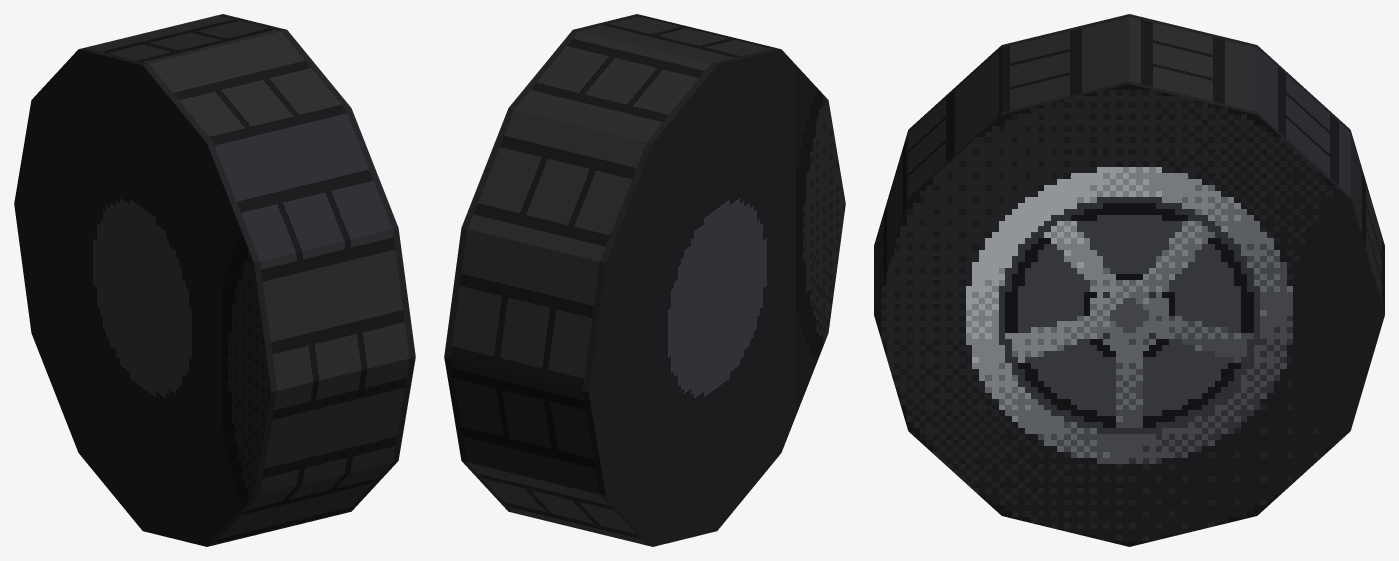
File: wheel_dish.glb
The picture shows the model from 3 angles, left to right: view 1: azimuth 30°, elevation 25°; view 2: azimuth 150°, elevation 25°; view 3: azimuth 270°, elevation 25°; orthographic projection.
Parts seen in each view (by area): view 1: wheel_dish; view 2: wheel_dish; view 3: wheel_dish.
Part boxes in pixels (bbox=[...]): wheel_dish: bbox=[14, 14, 415, 546]; wheel_dish: bbox=[444, 14, 845, 546]; wheel_dish: bbox=[874, 14, 1384, 546].
Size of the model in its own units: 0.205 by 0.6319 by 0.6319.
1 material, 1 textured.
